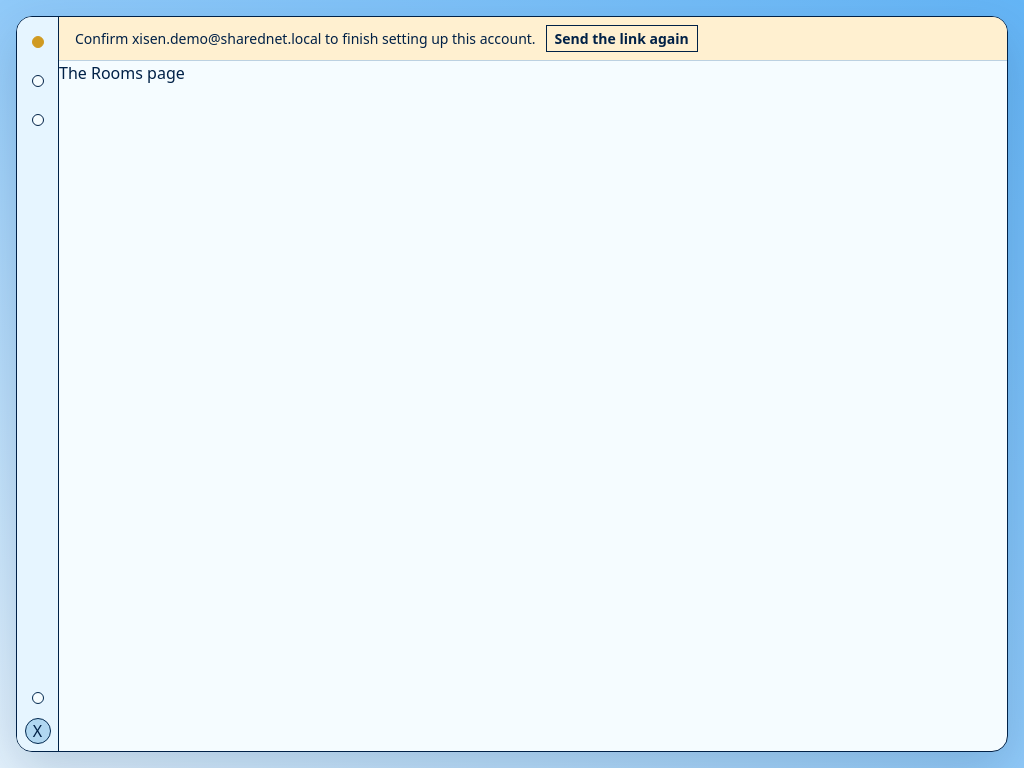
Test: SharedNet application shell › asks an unproven address to be confirmed, sends the link again on request, and withholds nothing meanwhile
Expected: the text "Confirm xisen.demo@sharednet.local to finish setting up" is shown, [75,29,536,48]
Expected: the navigation bar named "Primary surfaces" is shown, [32,36,44,126]
Click the button "Send the link again": (622, 38) [546,25,698,52]
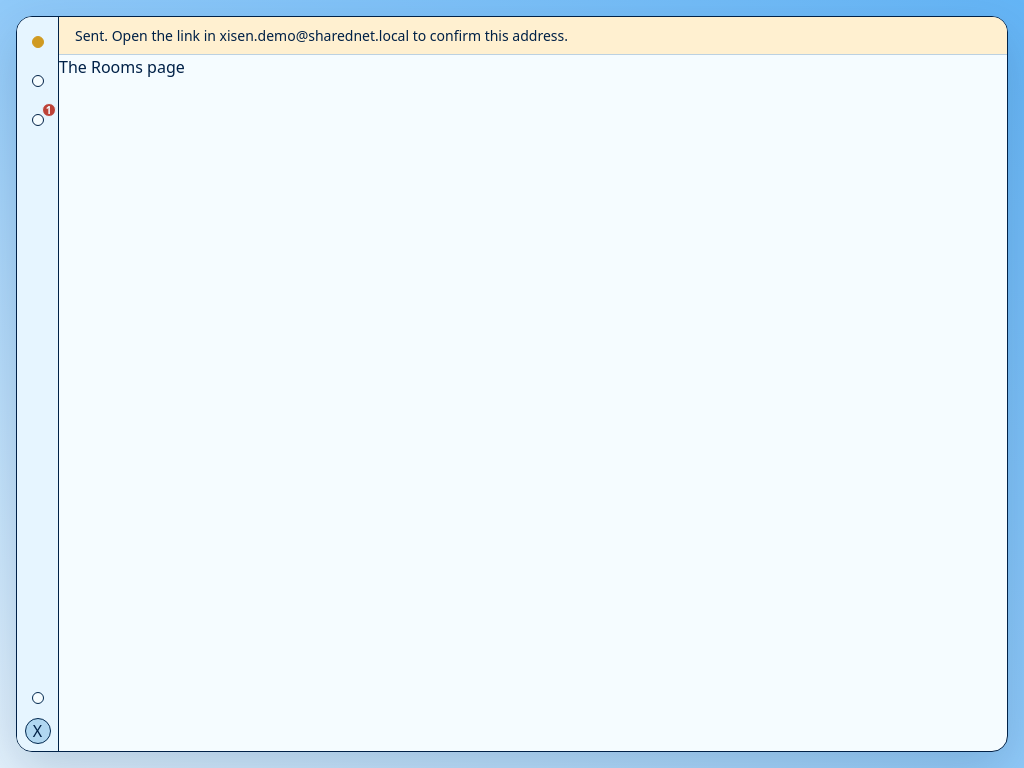
Expected: the text "Sent. Open the link in xisen.demo@sharednet.local" is shown, [75,26,568,45]
